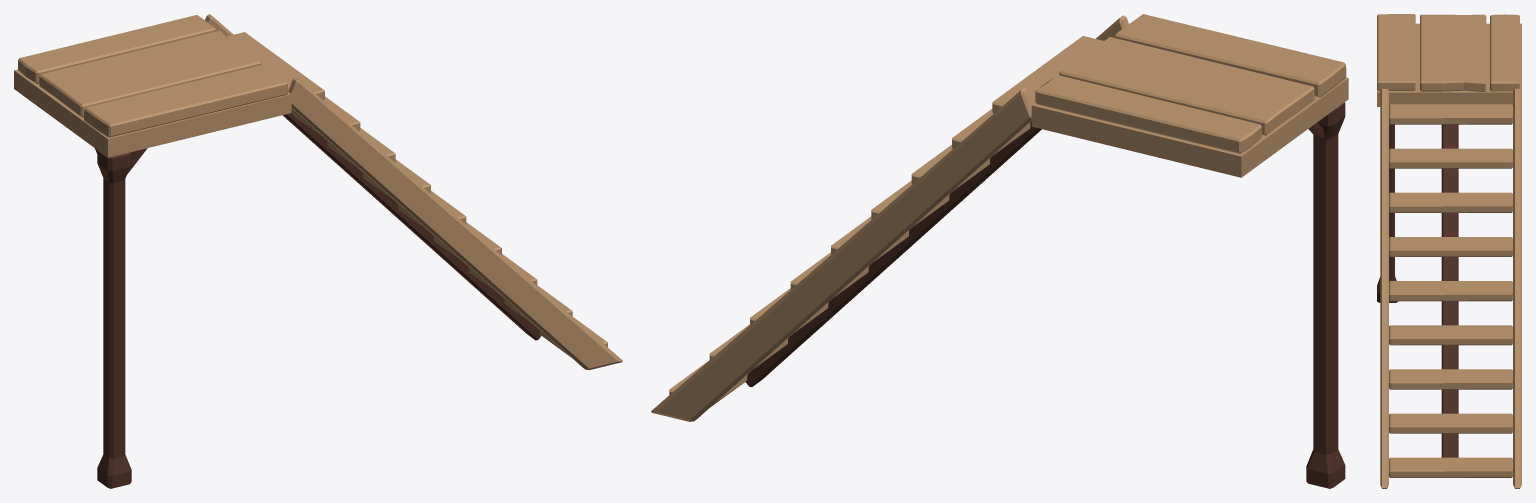
File: stairs-c.glb
3 views of the same model, side by side, from view 1: azimuth 30°, elevation 25°; view 2: azimuth 150°, elevation 25°; view 3: azimuth 270°, elevation 25° (orthographic). The views are drawn at different scales.
Parts seen in each view (by area): view 1: Stairs C (×2); view 2: Stairs C (×2); view 3: Stairs C (×2).
Boxes of the visible parts, left/top/right/bottom form: Stairs C (×2): left=14, top=14, right=622, bottom=488; Stairs C (×2): left=651, top=14, right=1348, bottom=488; Stairs C (×2): left=1377, top=14, right=1521, bottom=488.
Size of the model in its own units: 3.25 by 2.19 by 1.02.
